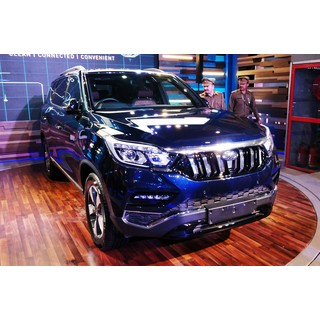car: (37, 66, 280, 254)
